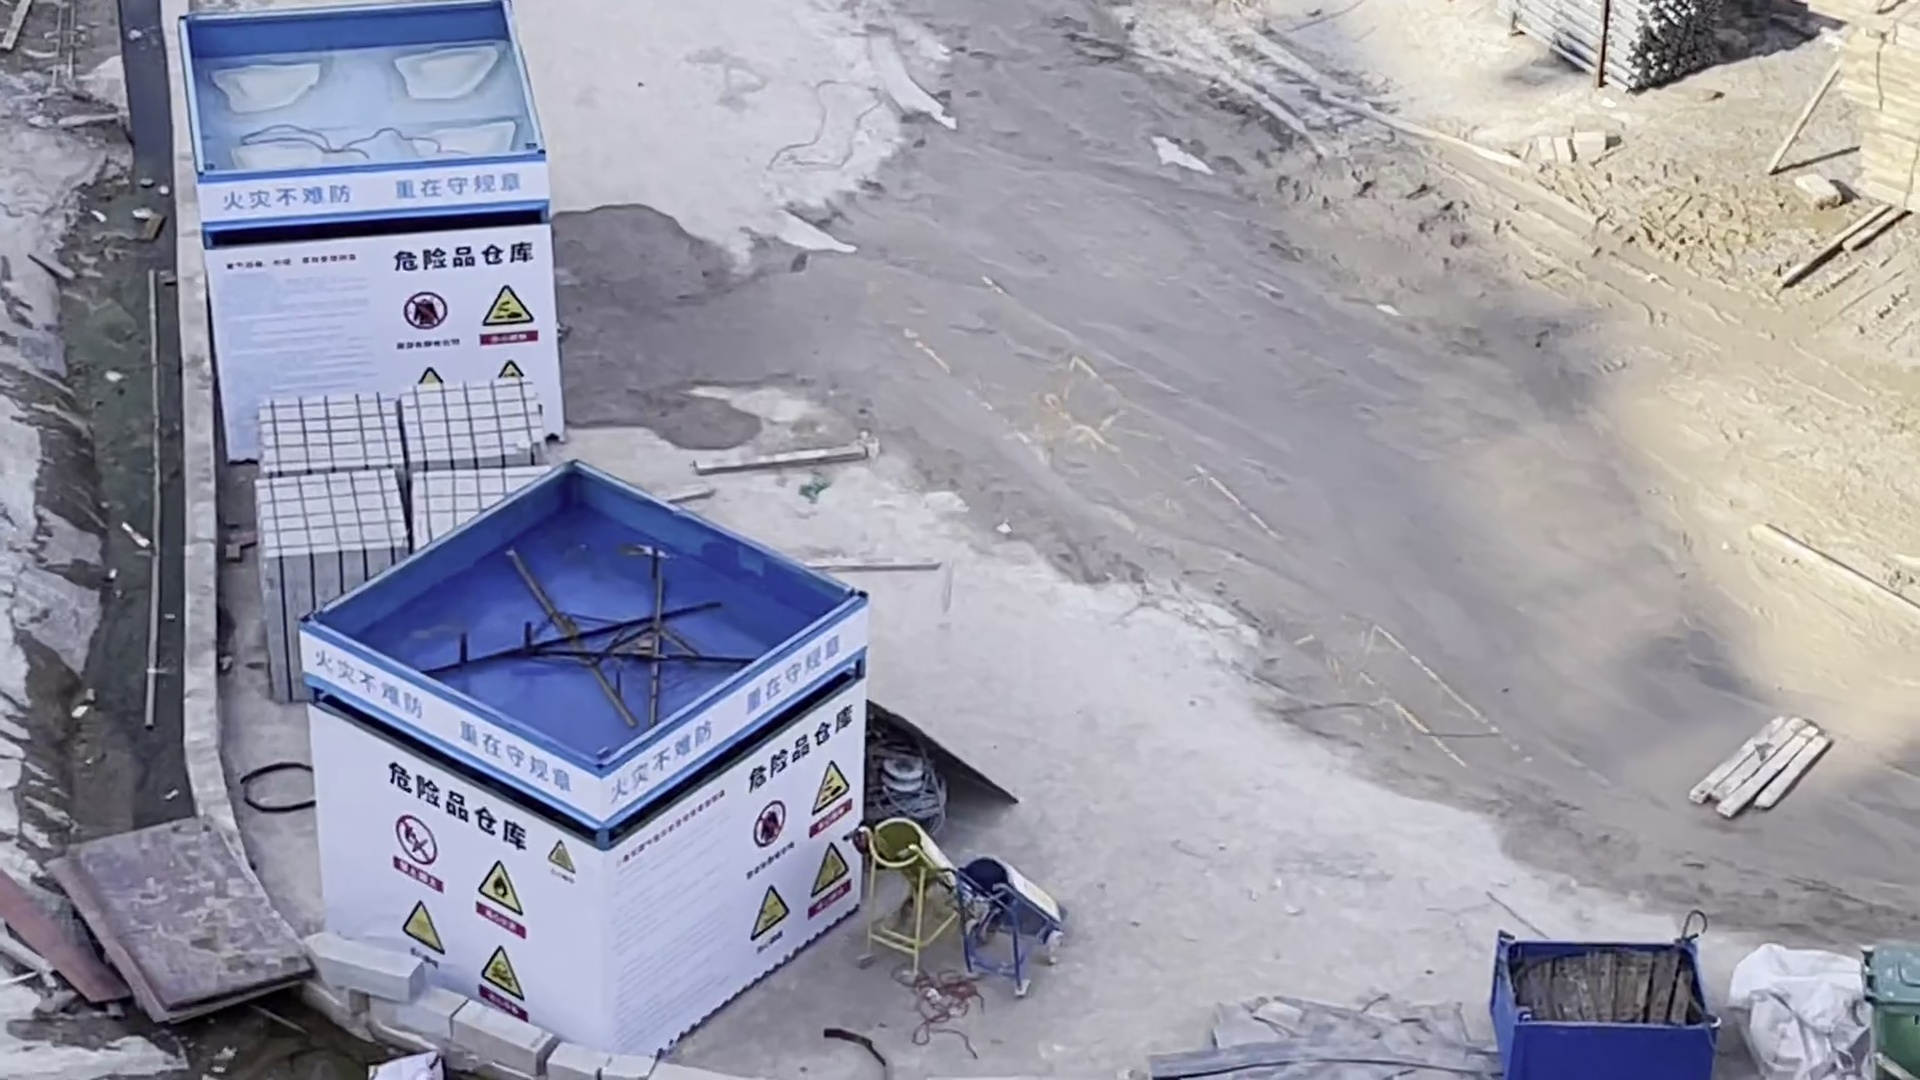board: (36, 836, 313, 1023)
brick: (251, 381, 547, 673)
scaffold: (1511, 1, 1774, 82)
slogan: (299, 626, 584, 796), (589, 637, 866, 781), (222, 169, 529, 218)
